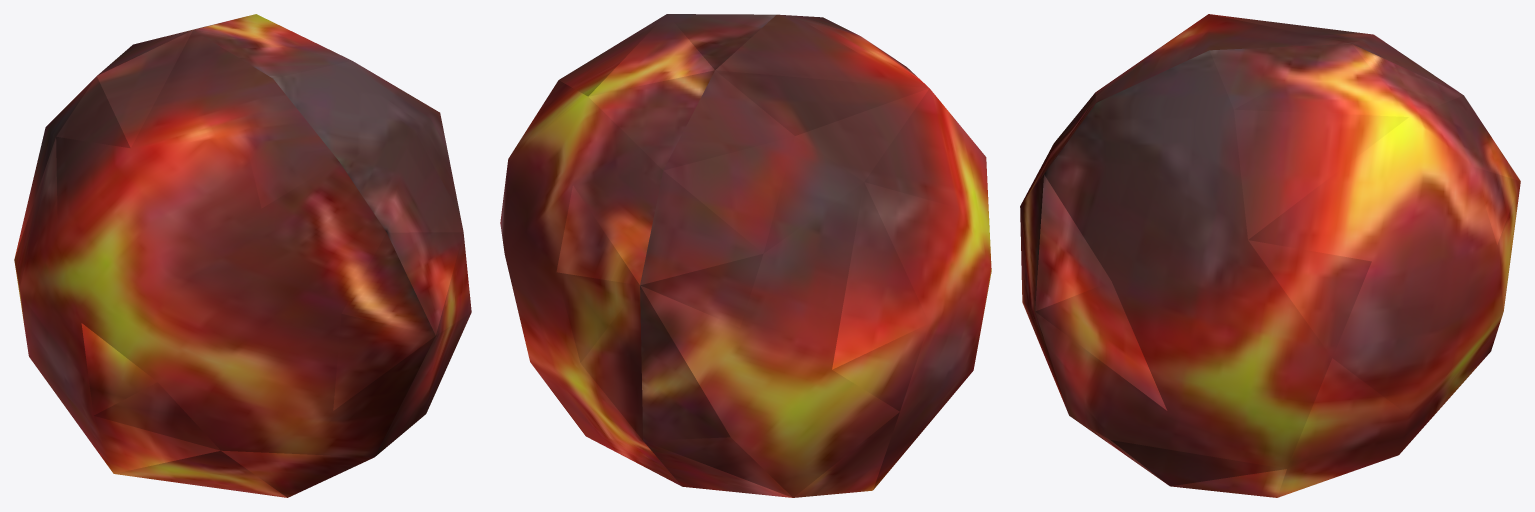
The model's file is meteorite01.FBX.
3 renders of one model, left to right at view 1: azimuth 30°, elevation 25°; view 2: azimuth 150°, elevation 25°; view 3: azimuth 270°, elevation 25°, orthographic. The views are drawn at different scales.
Parts seen in each view (by area): view 1: meteorite01; view 2: meteorite01; view 3: meteorite01.
Boxes of the visible parts, x1,y1,x2,y2 form: meteorite01: [14, 14, 471, 497]; meteorite01: [500, 14, 991, 497]; meteorite01: [1020, 14, 1520, 497].
Size of the model in its own units: 12.62 by 12.75 by 13.32.
